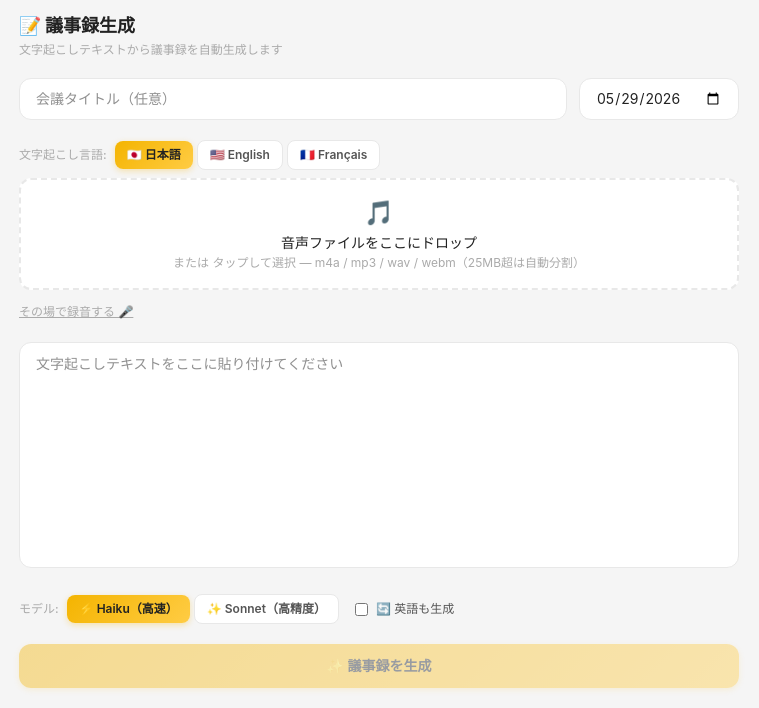
Test case: MinutesTool › テキスト入力後に生成ボタンが有効になる
The image size is (759, 708).
Type "会議の内容" into the text box with placeholder "文字起こしテキストをここに貼り付けてください". click: coordinates (379, 455)
box: [19,342,739,568]
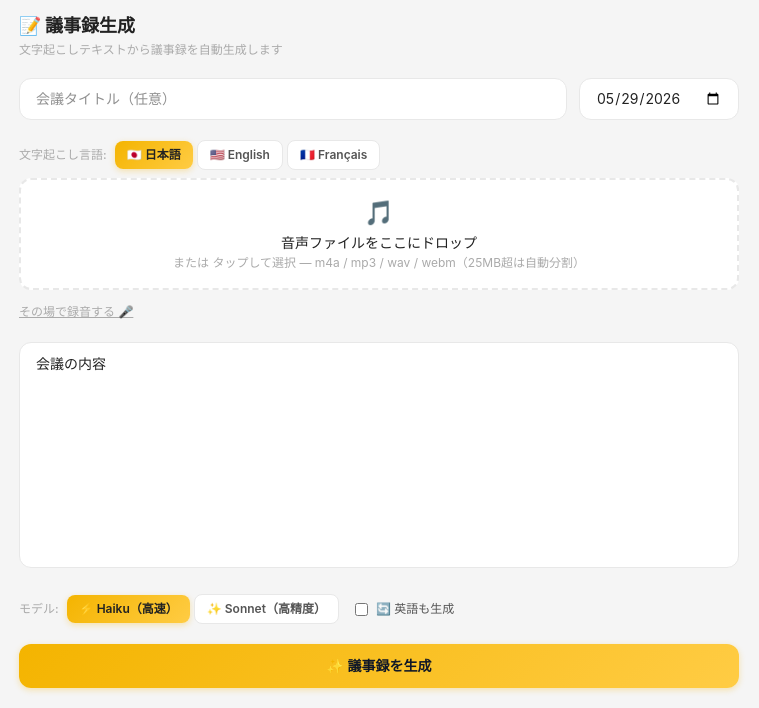
expect the button "✨ 議事録を生成" is enabled: met, box [19,644,739,688]
